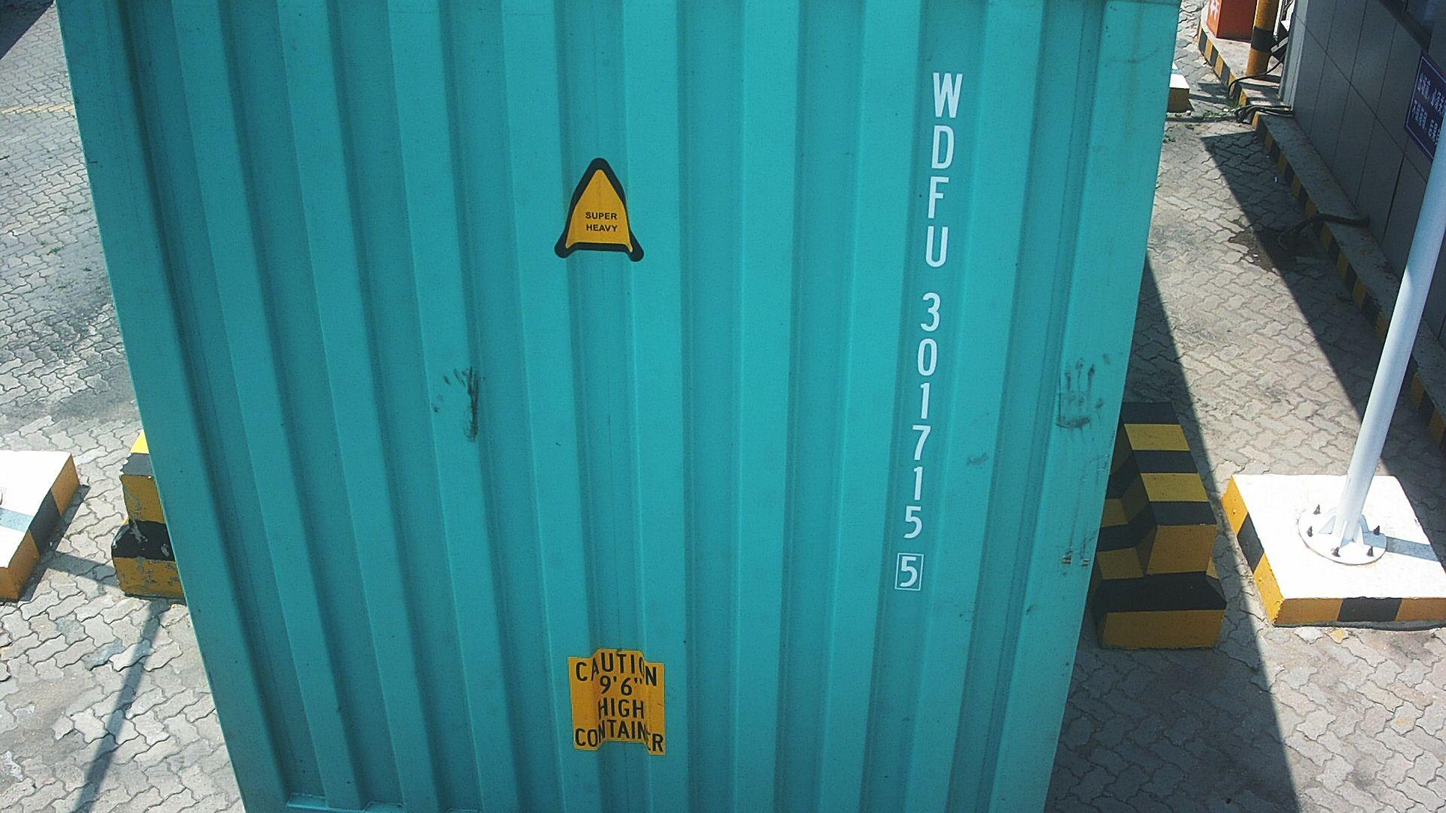container-numbers: (889, 64, 966, 599)
